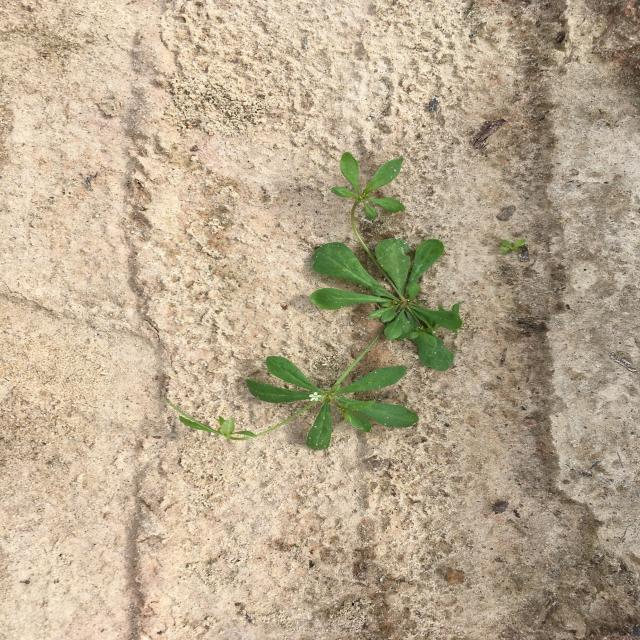Carpetweed: (164, 142, 462, 450), (499, 239, 527, 255)
